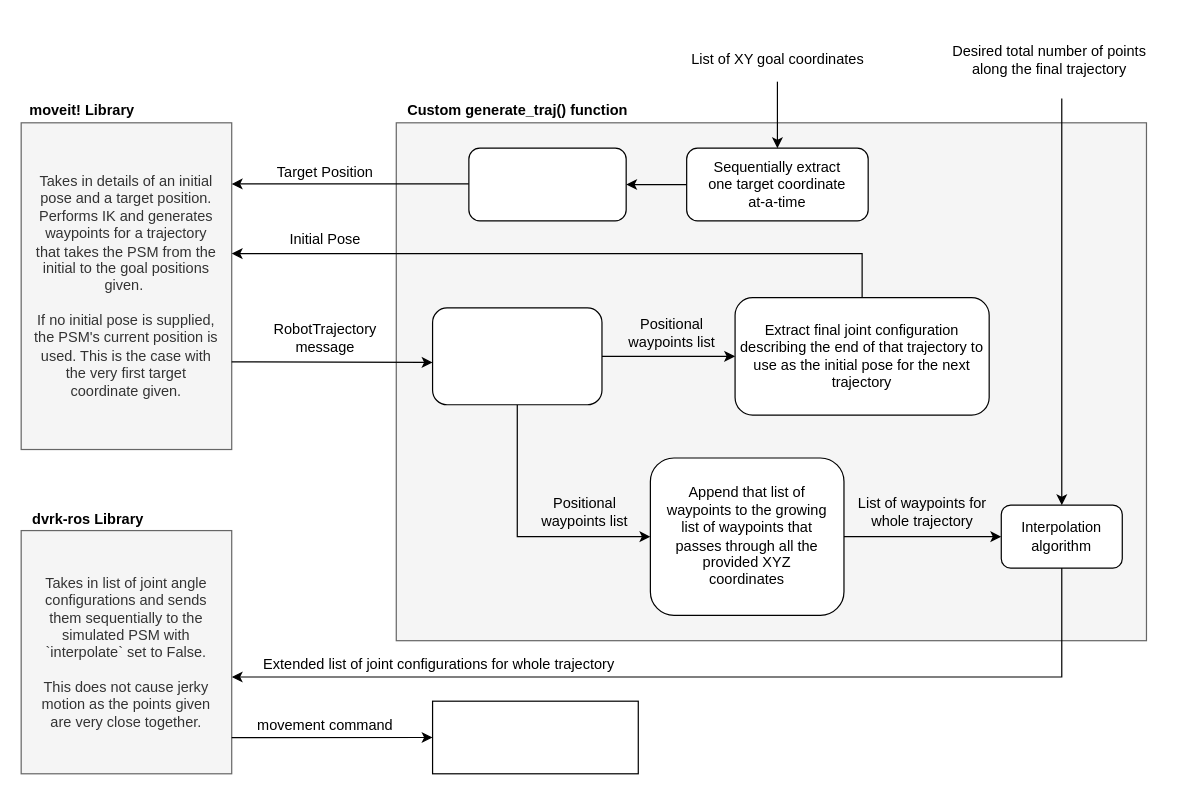
The diagram is 1180 pixels wide and 795 high, and some of its shapes have lost their labels. Each missing label, with the box of its shape:
Convert 2D coordinate into 3D by supplying a constant Z value: (468, 147, 626, 221)
Extract list waypoints (each a list of joint angles) describing the trajectory: (431, 307, 602, 405)
Simulated dVRK PSM: (431, 700, 638, 774)
